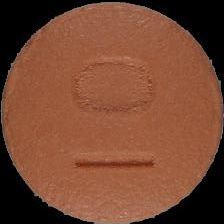42254-116: (0, 0, 224, 224)
